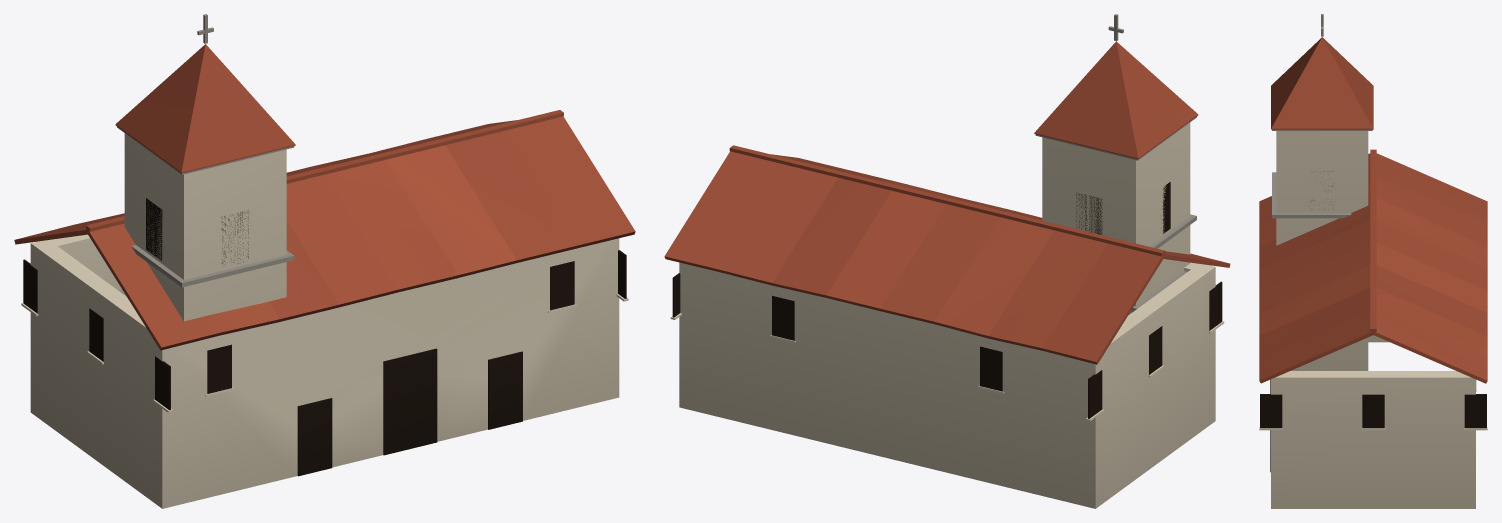
File: colonial_catedral_lod0.glb
3 renders of one model, left to right at view 1: azimuth 30°, elevation 25°; view 2: azimuth 150°, elevation 25°; view 3: azimuth 270°, elevation 25°, orthographic. The views are drawn at different scales.
Visible parts, largest first — view 1: GEO-Arch_colonial_catedral_LOD0; view 2: GEO-Arch_colonial_catedral_LOD0; view 3: GEO-Arch_colonial_catedral_LOD0.
Boxes of the visible parts, x1,y1,x2,y2 form: GEO-Arch_colonial_catedral_LOD0: [14, 14, 635, 508]; GEO-Arch_colonial_catedral_LOD0: [664, 14, 1230, 508]; GEO-Arch_colonial_catedral_LOD0: [1259, 14, 1487, 508].
Bounding box in the file's own units: 24.9 × 22.65 × 13.4.
